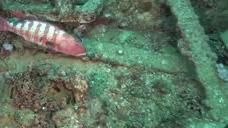Serranidae -Groupers-: (0, 5, 88, 58)
